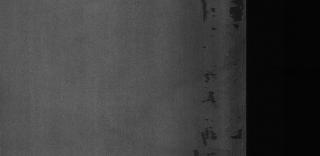oil spot: (202, 71, 222, 107), (200, 1, 218, 37), (228, 1, 244, 30), (196, 126, 218, 146), (232, 126, 244, 140), (192, 150, 220, 156)
